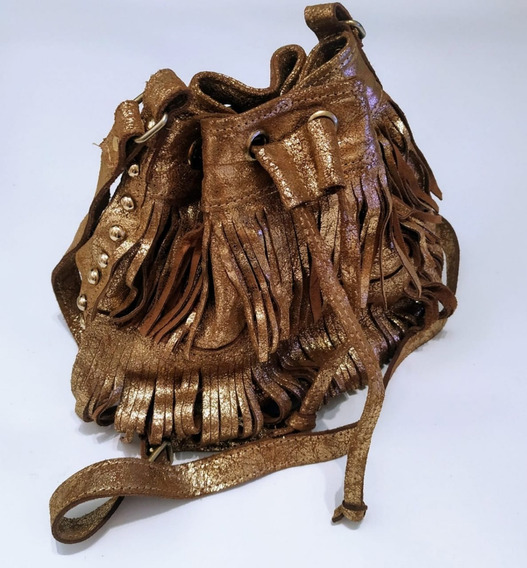cartera: (62, 4, 462, 449)
